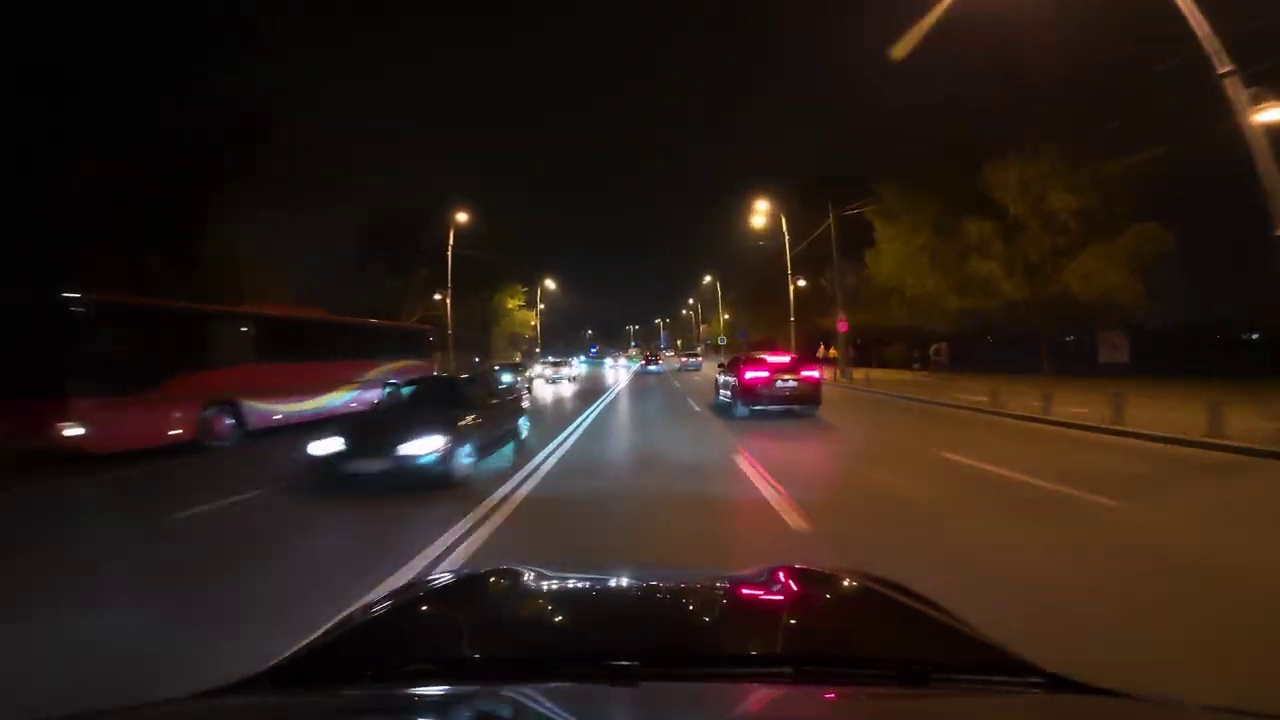acesa: (745, 197, 776, 232), (450, 206, 474, 232), (541, 275, 562, 297)
